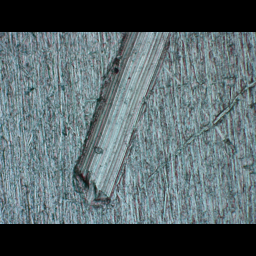d: (68, 31, 174, 214)
